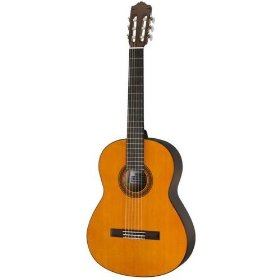guitar: (86, 1, 196, 278)
